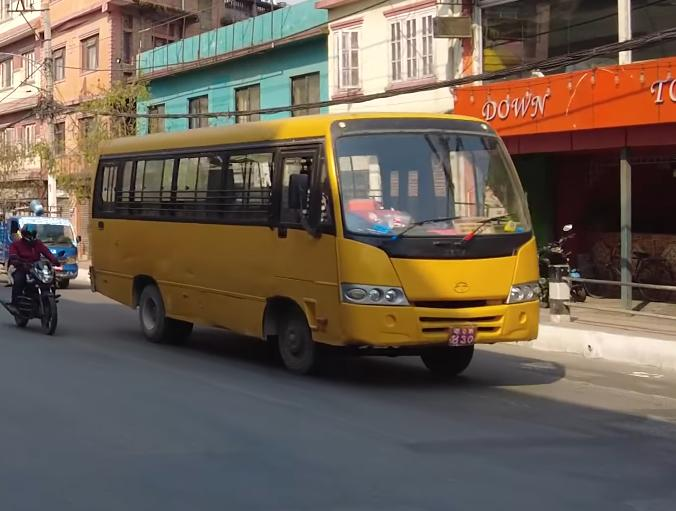bike: (5, 245, 65, 337)
school_bus: (86, 105, 546, 385)
